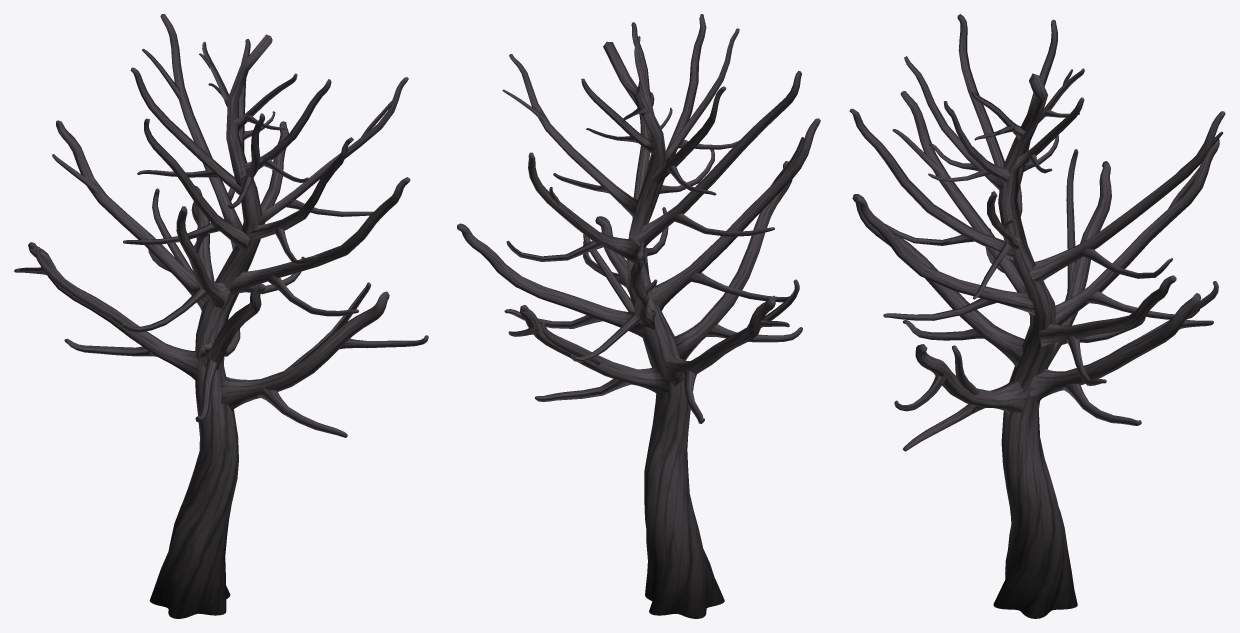
Rendered from DeadTree_1.glb.
3 renders of one model, left to right at view 1: azimuth 30°, elevation 25°; view 2: azimuth 150°, elevation 25°; view 3: azimuth 270°, elevation 25°, orthographic. The views are drawn at different scales.
Visible parts, largest first — view 1: DeadTree_1; view 2: DeadTree_1; view 3: DeadTree_1.
Part boxes in pixels (x1,y1,x2,y2): DeadTree_1: (14,14,428,618); DeadTree_1: (457,14,820,618); DeadTree_1: (849,14,1225,618).
Bounding box in the file's own units: 6.15 × 9.5 × 5.75.
1 material, 1 textured.
